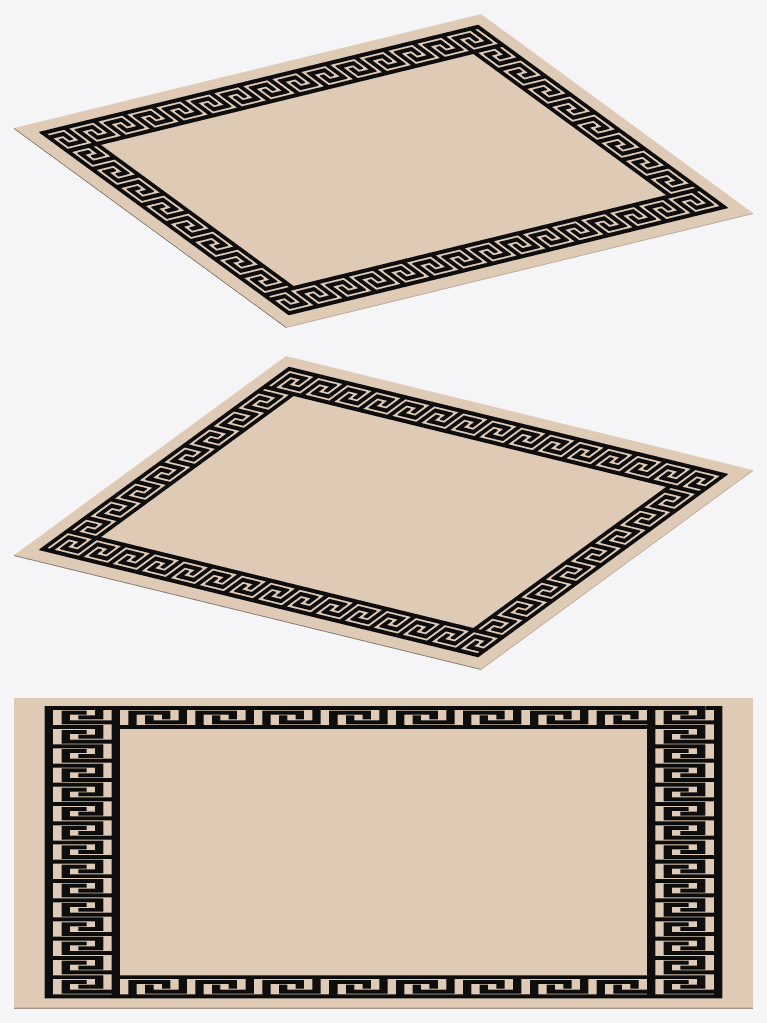
Rendered from kleed_grieks.glb.
The picture shows the model from 3 angles, top to bottom: view 1: azimuth 30°, elevation 25°; view 2: azimuth 150°, elevation 25°; view 3: azimuth 270°, elevation 25°; orthographic projection. The views are drawn at different scales.
Parts seen in each view (by area): view 1: kleed_grieks; view 2: kleed_grieks; view 3: kleed_grieks.
Part boxes in pixels (bbox=[...]): kleed_grieks: bbox=[14, 14, 752, 327]; kleed_grieks: bbox=[14, 356, 752, 669]; kleed_grieks: bbox=[14, 698, 752, 1008].
Bounding box in the file's own units: 1.7 × 0.007 × 1.71.
